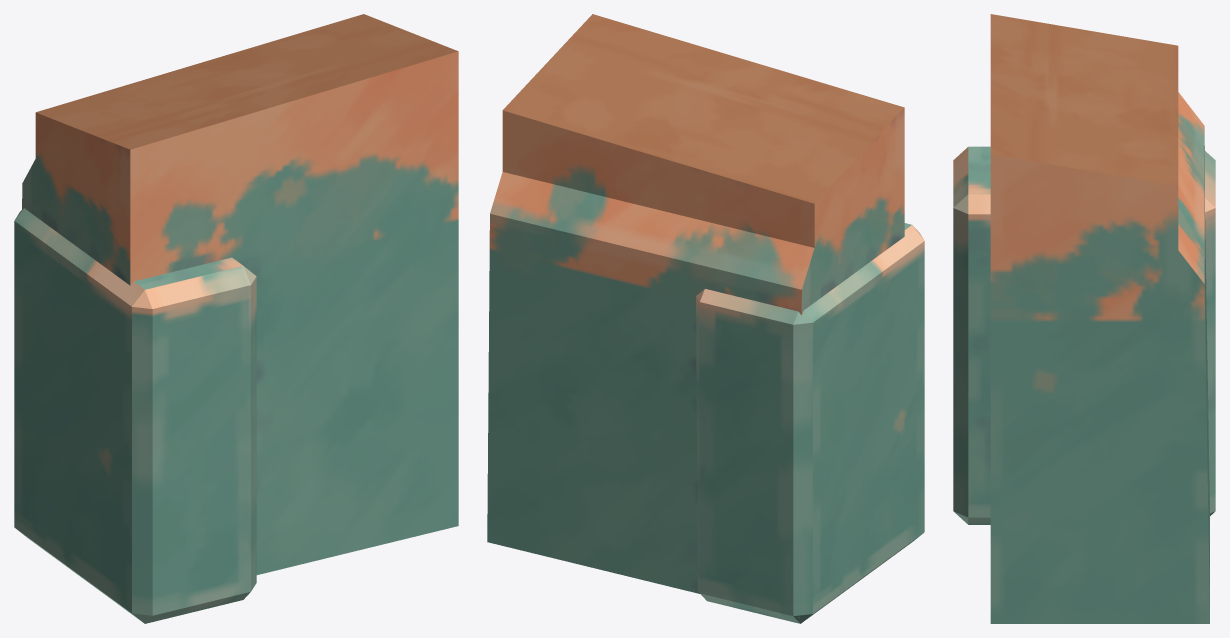
File: wall_door_s05.fbx
The picture shows the model from 3 angles, left to right: view 1: azimuth 30°, elevation 25°; view 2: azimuth 150°, elevation 25°; view 3: azimuth 270°, elevation 25°; orthographic projection. The views are drawn at different scales.
Visible parts, largest first — view 1: wall_door_s05; view 2: wall_door_s05; view 3: wall_door_s05.
Part boxes in pixels (x1,y1,x2,y2): wall_door_s05: (14, 14, 458, 623); wall_door_s05: (487, 14, 924, 623); wall_door_s05: (953, 14, 1215, 623).
Size of the model in its own units: 2.06 by 2.82 by 1.4.
